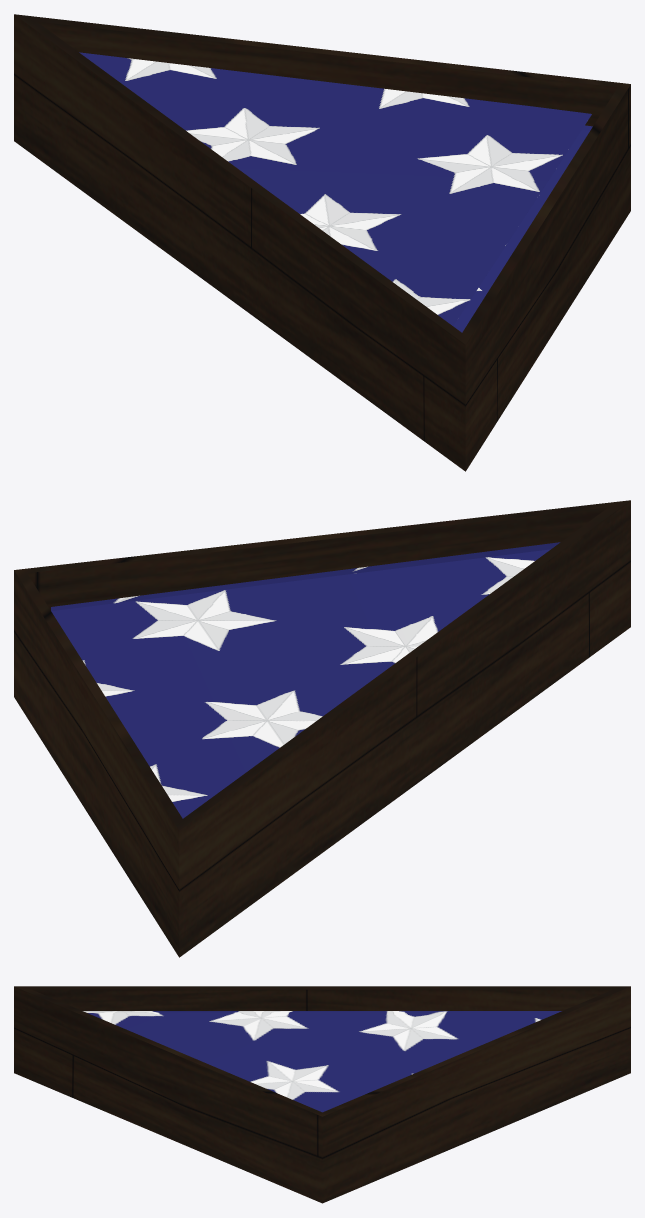
File: FlagCase.glb
3 renders of one model, top to bottom at view 1: azimuth 30°, elevation 25°; view 2: azimuth 150°, elevation 25°; view 3: azimuth 270°, elevation 25°, orthographic. The views are drawn at different scales.
Parts seen in each view (by area): view 1: FlagBox.003; view 2: FlagBox.003; view 3: FlagBox.003.
Part boxes in pixels (bbox=[...]): FlagBox.003: bbox=[14, 14, 630, 471]; FlagBox.003: bbox=[14, 500, 630, 957]; FlagBox.003: bbox=[14, 986, 630, 1203].
Bounding box in the file's own units: 1.16 × 0.36 × 2.32.
2 materials, 2 textured.
